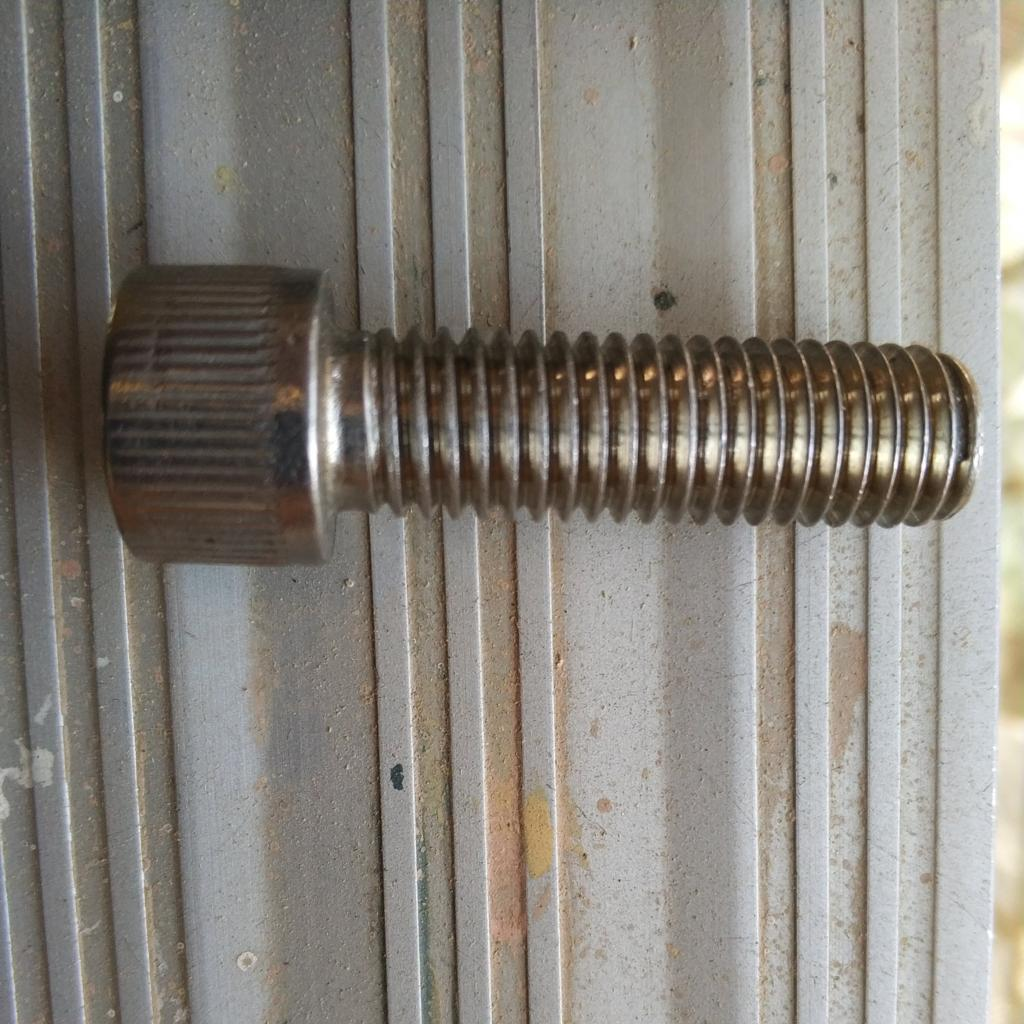screwtype1silver: (96, 254, 982, 577)
